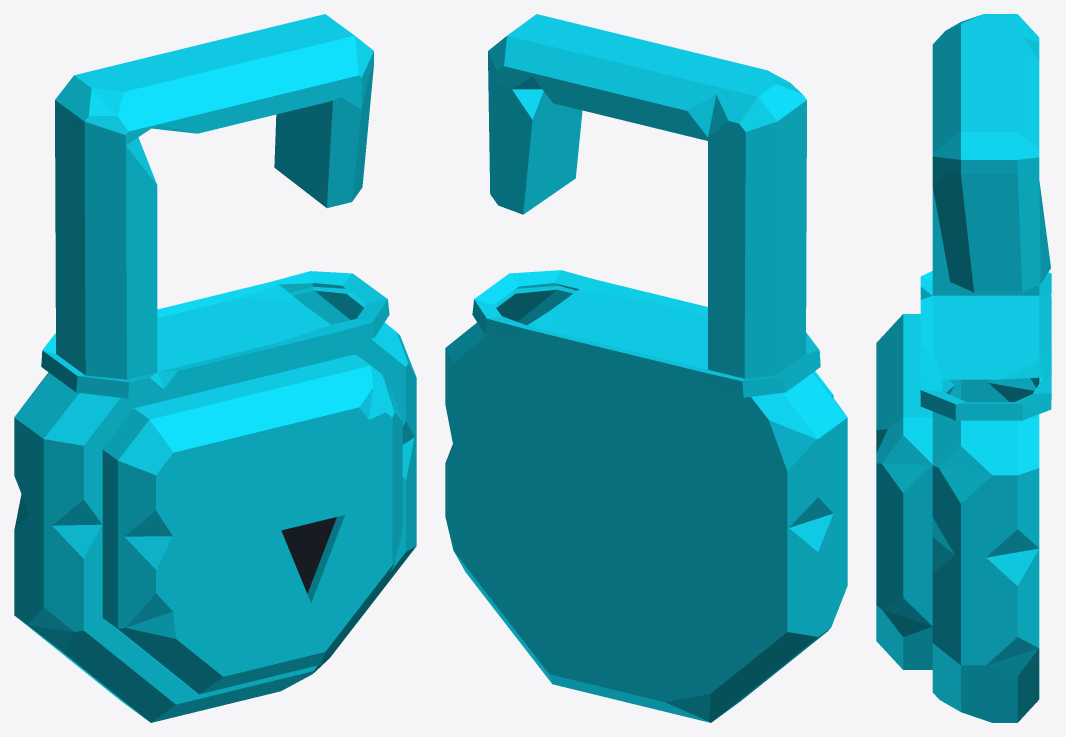
File: blue_unlock.glb
3 views of the same model, side by side, from view 1: azimuth 30°, elevation 25°; view 2: azimuth 150°, elevation 25°; view 3: azimuth 270°, elevation 25° (orthographic). The views are drawn at different scales.
Visible parts, largest first — view 1: Circle.016; view 2: Circle.016; view 3: Circle.016.
Boxes of the visible parts, <box> form: Circle.016: <box>14,14,416,722</box>; Circle.016: <box>445,14,847,722</box>; Circle.016: <box>876,14,1051,722</box>.
Bounding box in the file's own units: 2 × 3.27 × 0.8475.
1 material, 1 textured.
